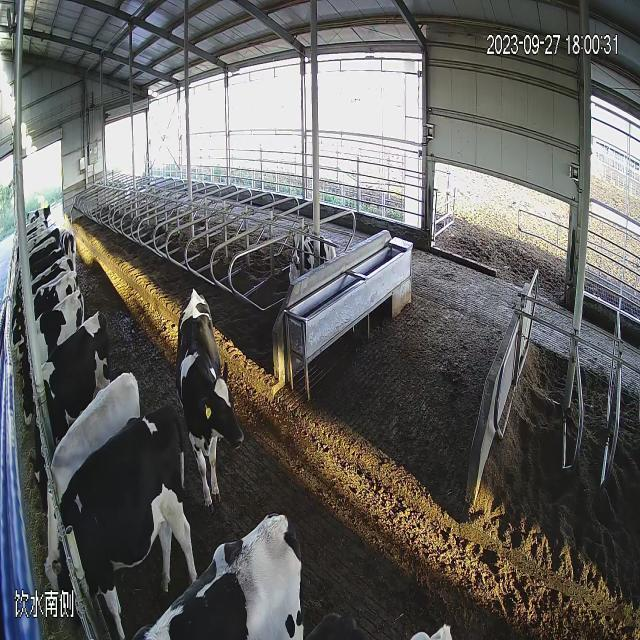feeding: (48, 392, 201, 640), (35, 363, 144, 611), (22, 302, 114, 538), (17, 290, 86, 442)
lying down: (282, 218, 340, 304)
standing: (166, 277, 254, 522)
